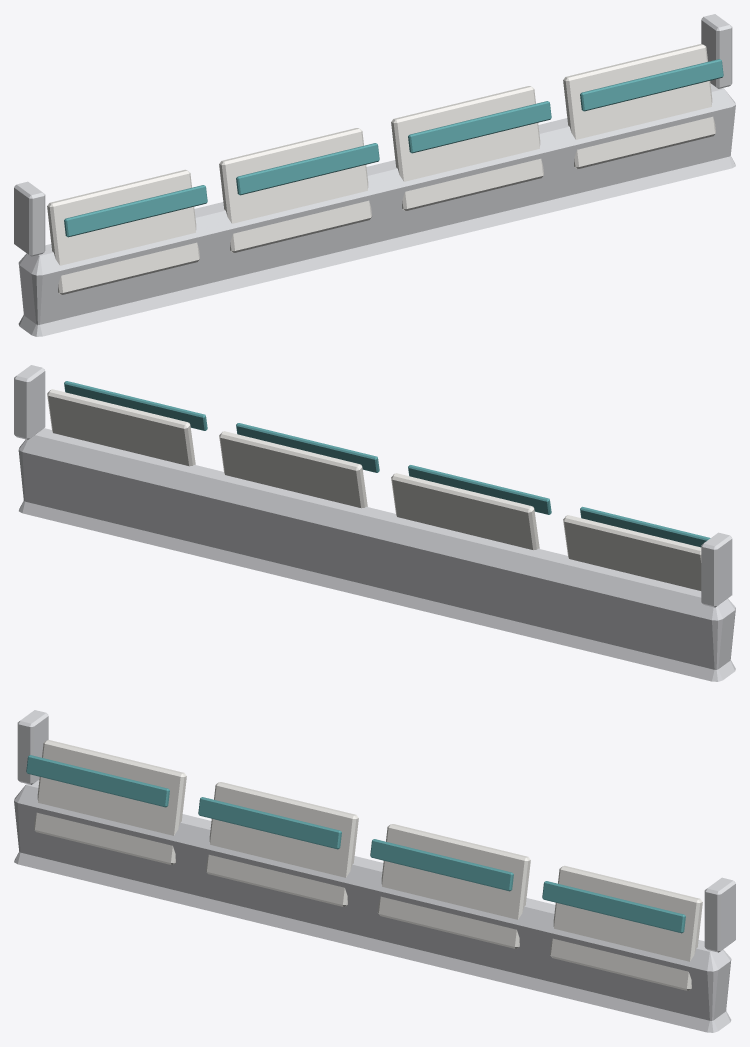
File: fast-food-and-drive-thru-counter-price-rail-244ebef0__16129.glb
3 renders of one model, top to bottom at view 1: azimuth 30°, elevation 25°; view 2: azimuth 150°, elevation 25°; view 3: azimuth 330°, elevation 25°, orthographic.
Parts seen in each view (by area): view 1: counter-price-rail; view 2: counter-price-rail; view 3: counter-price-rail.
Part boxes in pixels (box(x1,y1,x2,y2)): counter-price-rail: box(14, 14, 735, 336); counter-price-rail: box(14, 365, 735, 681); counter-price-rail: box(14, 710, 735, 1032).
Size of the model in its own units: 0.6 by 0.112 by 0.0467.
